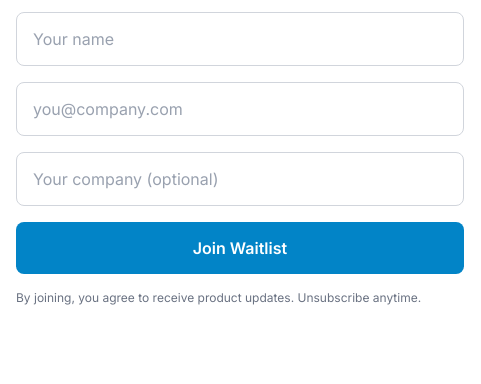
Test: WaitlistForm › should show error for invalid email
Type "invalid" into the field with placeholder "you@company.com" at point(240, 109), box [16,82,464,136]
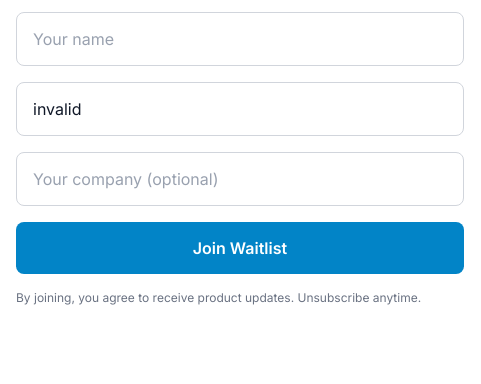
// Use fireEvent.submit on the form directly to bypass native HTML5 email validation
Submit the form with placeholder "you@company.com"
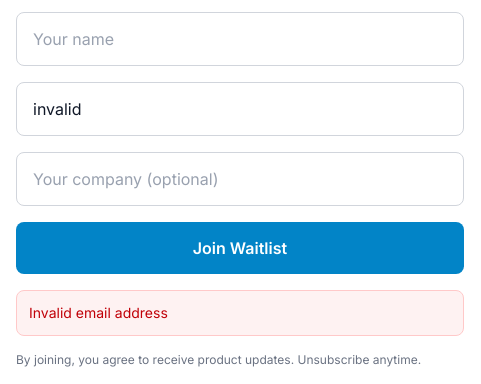
Expected: the text "Invalid email address" is shown, [16,290,464,336]
